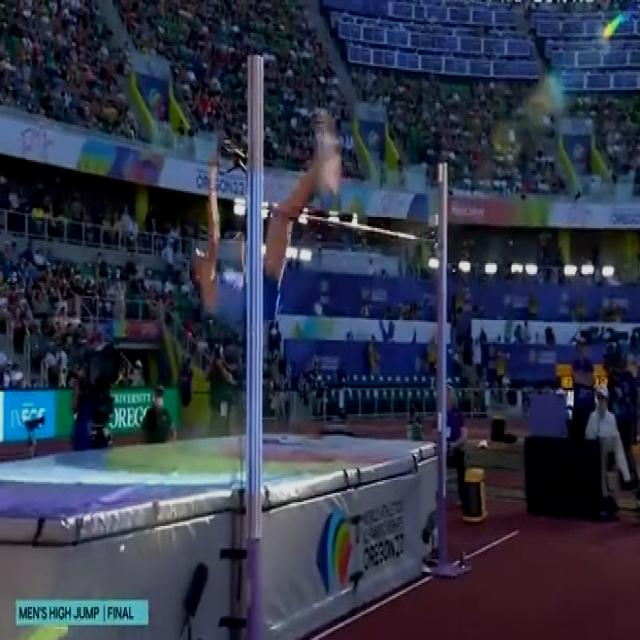land: (192, 140, 352, 334)
